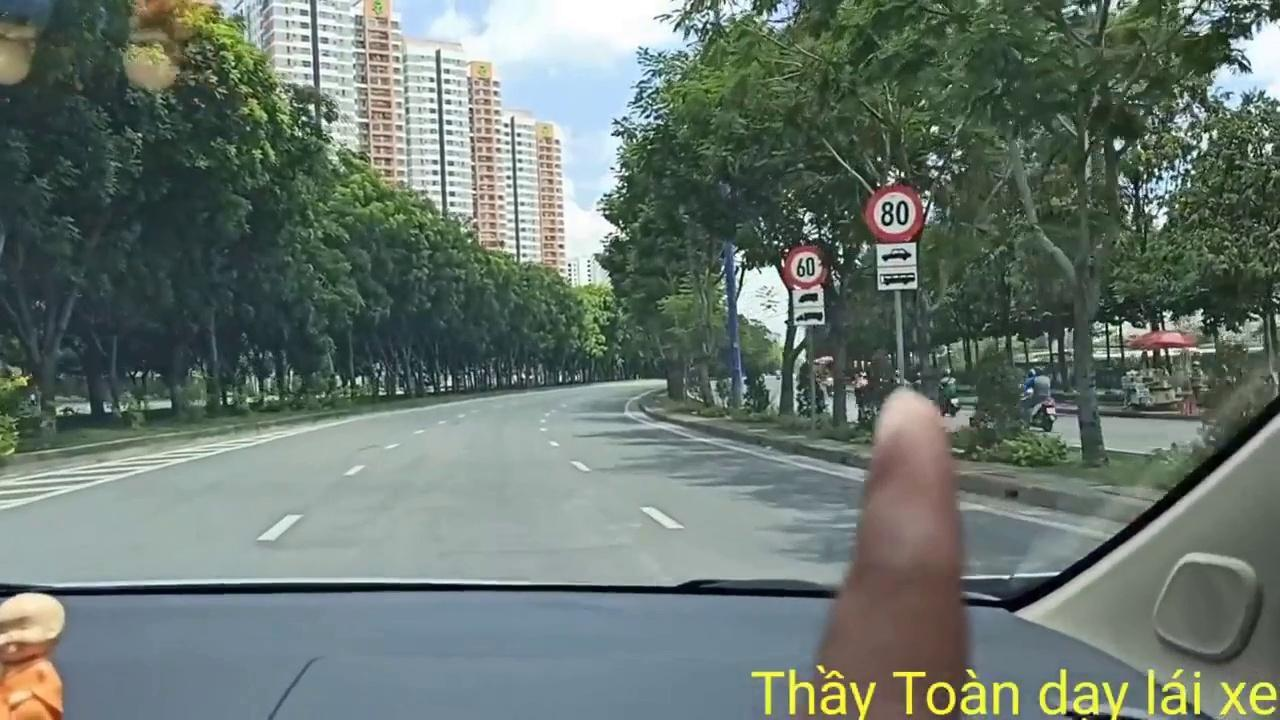Biển phụ: (875, 241, 920, 291), (792, 288, 827, 326)
GIơi hạn tốc độ 60Km/h: (782, 244, 828, 291)
Giới hạn tốc độ 80Km/h: (863, 182, 925, 244)
